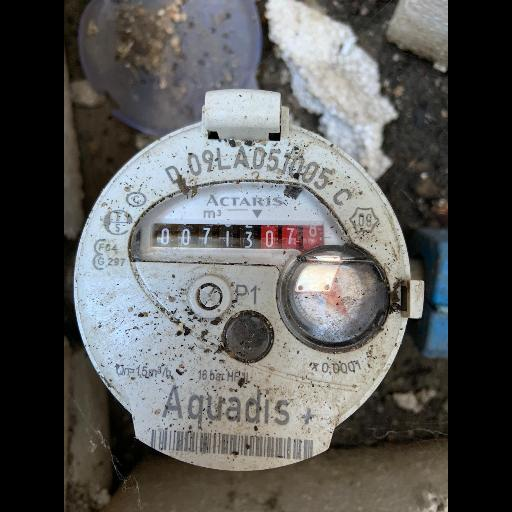0: (262, 225, 279, 249), (178, 223, 193, 247), (157, 223, 171, 247)
1: (219, 224, 234, 249)
3: (240, 224, 255, 248)
7: (281, 225, 299, 250), (198, 224, 214, 248)
8: (303, 224, 324, 252)
border_water_meter_number: (149, 216, 326, 258)
